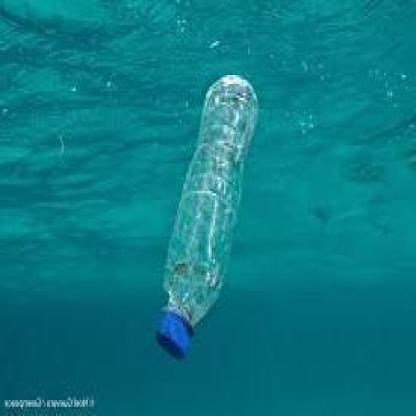pbottle: (150, 64, 263, 370)
